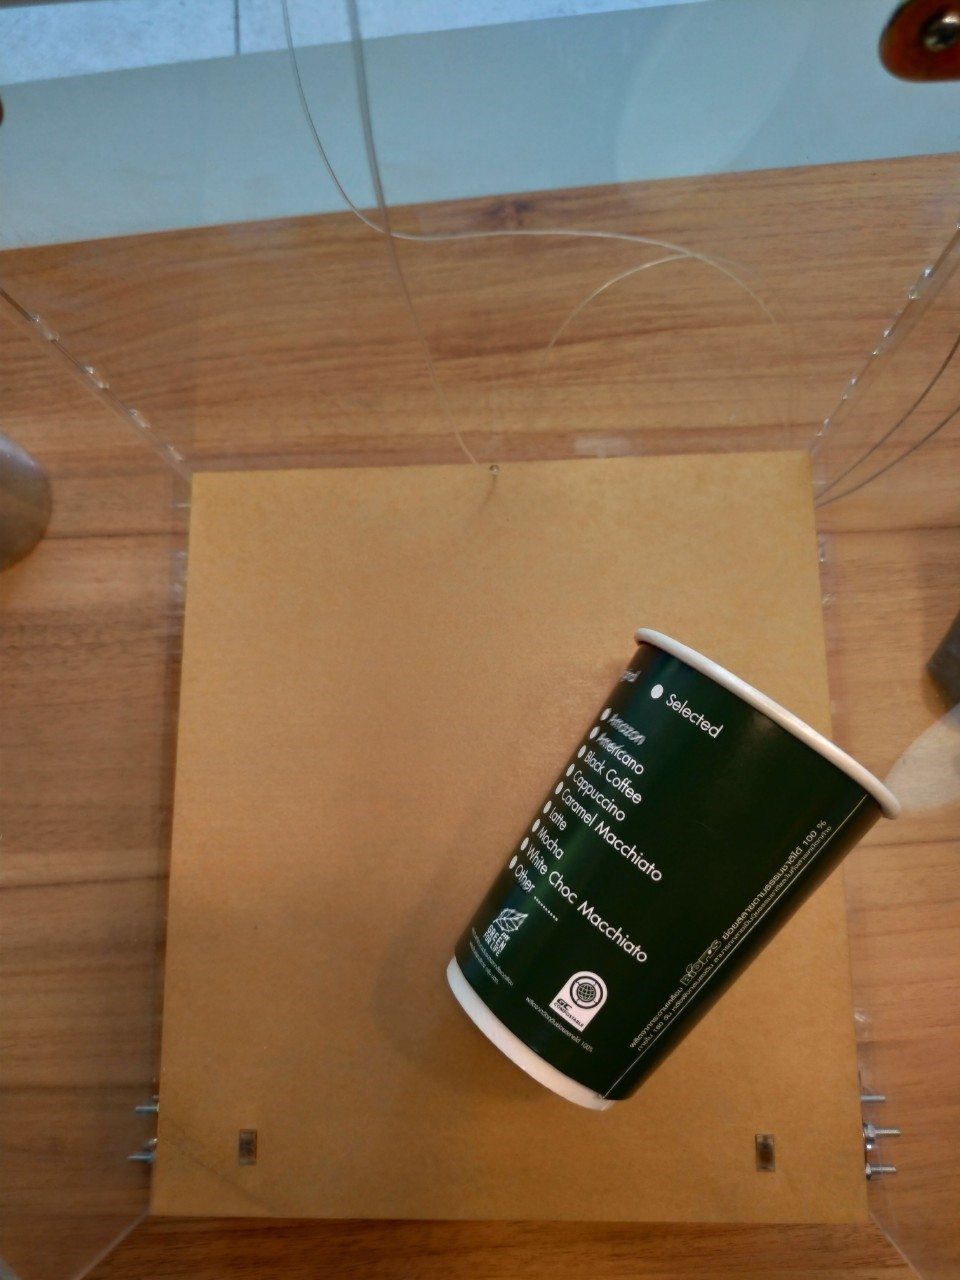PaperCup: (439, 623, 902, 1117)
